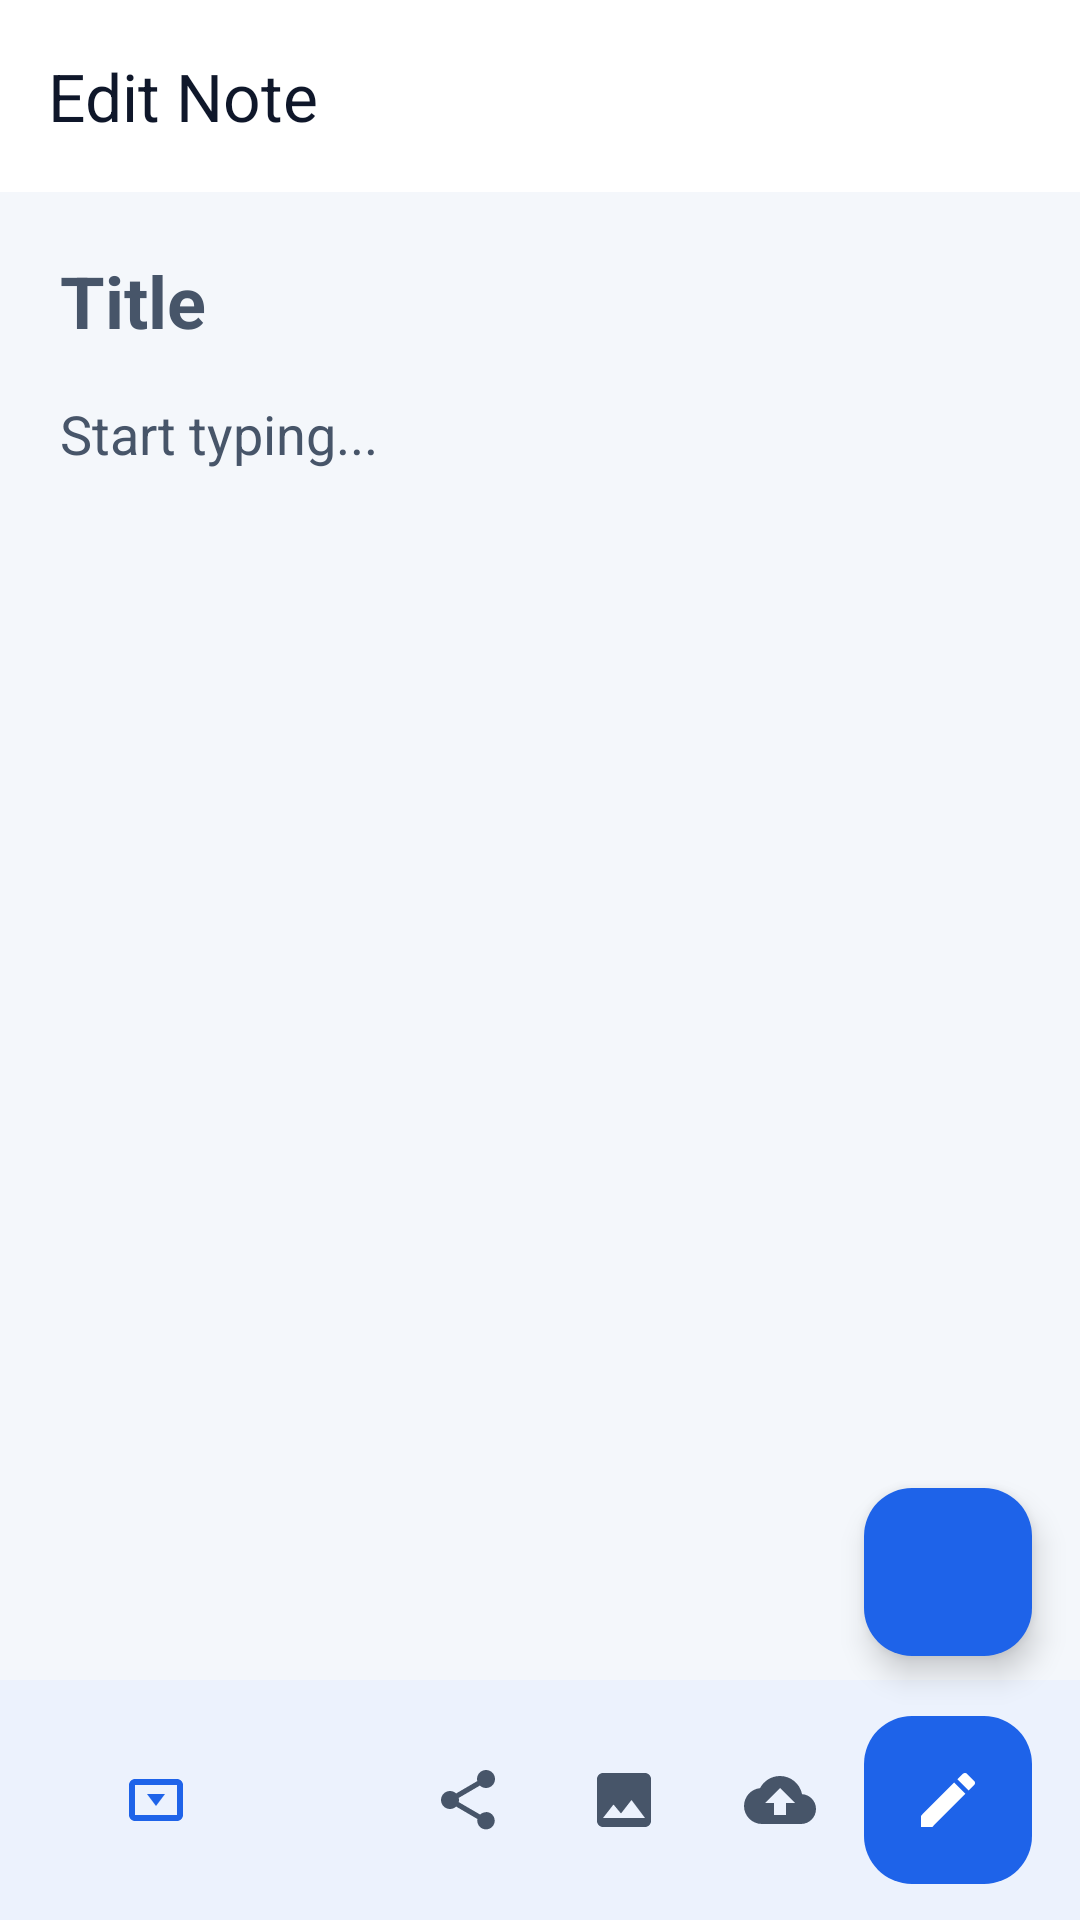

Where to tap for icons on this 1080*1920 app screen, as point (x, y):
Backup: point (780, 1800)
Share: point (468, 1800)
